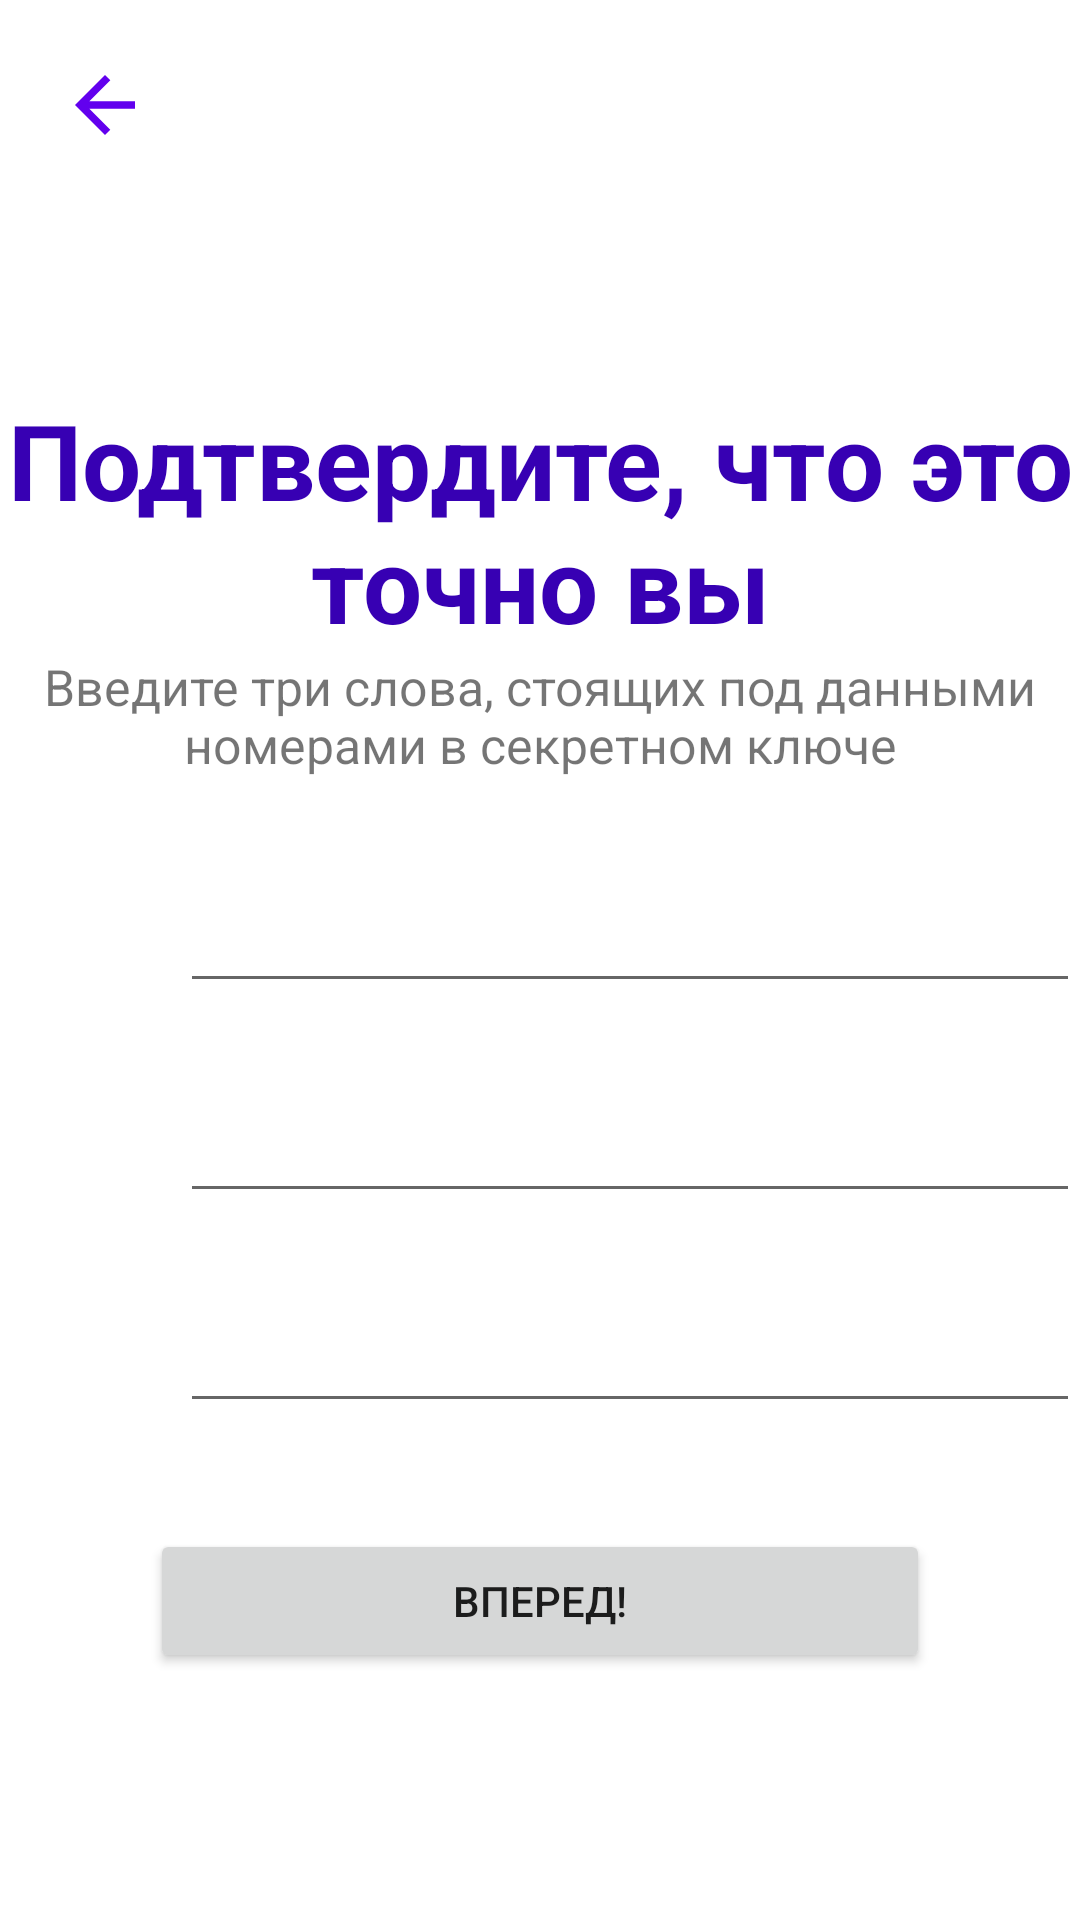

Named icons in this screenshot (1080 x 1920) and their centers, [x,y]:
back: [105,105]
